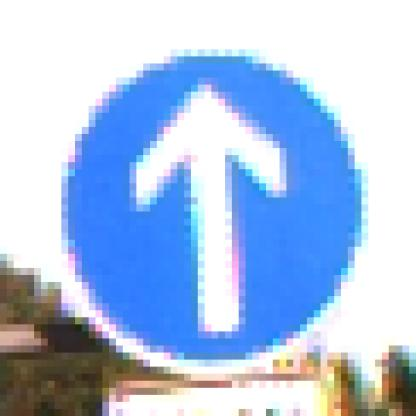AheadOnly: (35, 36, 383, 382)
